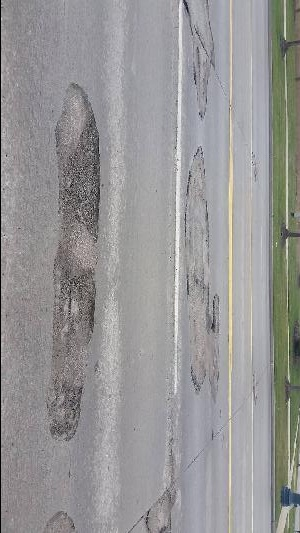pothole: (63, 116, 100, 243), (56, 266, 100, 341), (48, 380, 86, 439), (207, 317, 219, 335)
